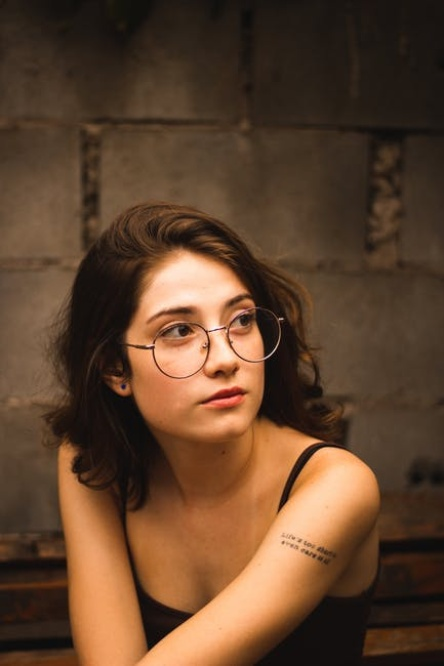face: (128, 254, 266, 439)
